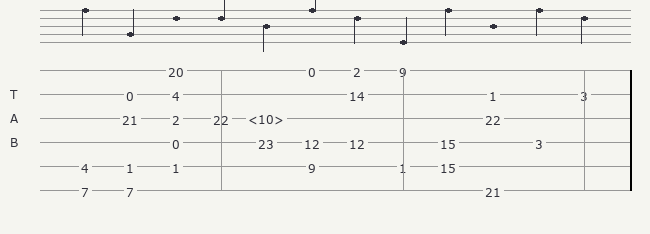0: (126, 88, 138, 101), (172, 136, 184, 149), (308, 64, 320, 77)
1: (126, 160, 138, 173), (172, 160, 184, 173), (399, 160, 411, 173), (489, 88, 501, 101)
12: (304, 136, 324, 149), (349, 136, 369, 149)
14: (349, 88, 369, 101)
15: (440, 136, 460, 149), (440, 160, 460, 173)
2: (172, 112, 184, 125), (353, 64, 365, 77)
20: (168, 64, 188, 77)
21: (122, 112, 142, 125), (485, 184, 505, 197)
22: (213, 112, 233, 125), (485, 112, 505, 125)
23: (258, 136, 278, 149)
3: (535, 136, 547, 149), (580, 88, 592, 101)
4: (81, 160, 93, 173), (172, 88, 184, 101)
7: (81, 184, 93, 197), (126, 184, 138, 197)
9: (308, 160, 320, 173), (399, 64, 411, 77)
harmonic: (248, 111, 288, 125)
